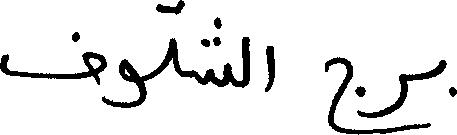X: (0, 27, 104, 107), (360, 69, 404, 134), (196, 12, 231, 91), (106, 54, 144, 112), (326, 52, 350, 134), (437, 55, 456, 101), (168, 0, 179, 79), (267, 41, 274, 96), (244, 32, 249, 91)
